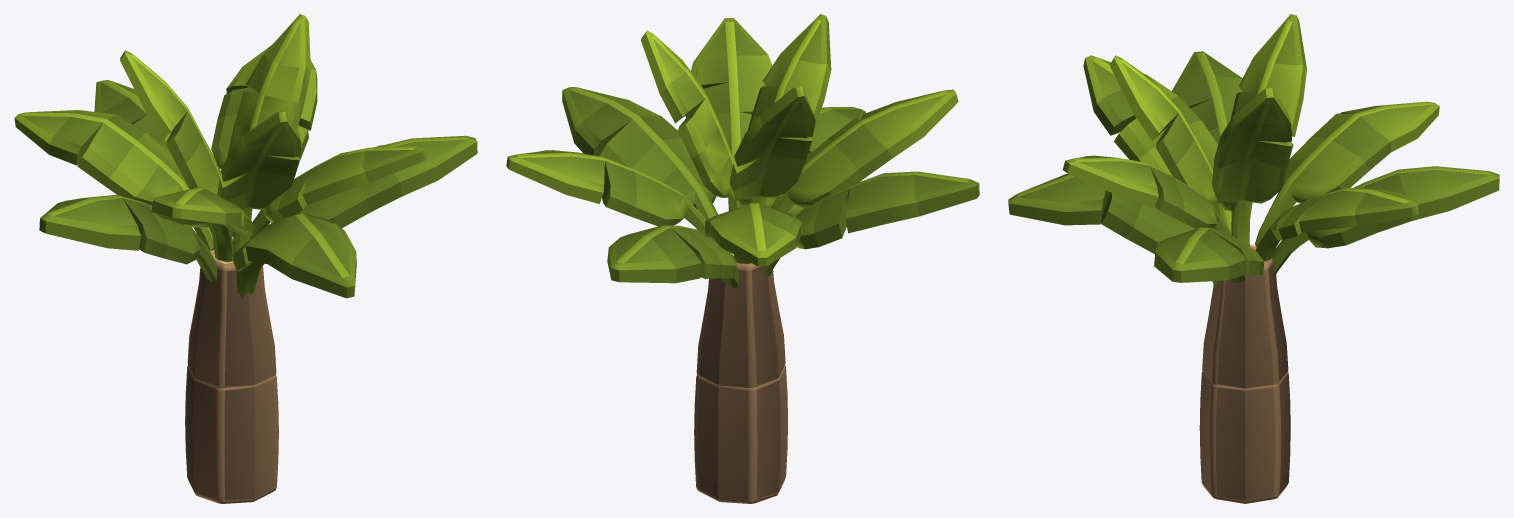
The model's file is banana_tree_small_LOD_group.fbx.
3 views of the same model, side by side, from view 1: azimuth 30°, elevation 25°; view 2: azimuth 150°, elevation 25°; view 3: azimuth 270°, elevation 25° (orthographic).
Parts seen in each view (by area): view 1: banana_tree_small_LOD0; view 2: banana_tree_small_LOD0; view 3: banana_tree_small_LOD0.
Part boxes in pixels (<box>): banana_tree_small_LOD0: <box>14,14,477,503</box>; banana_tree_small_LOD0: <box>506,14,979,503</box>; banana_tree_small_LOD0: <box>1008,14,1499,503</box>.
Size of what is drawn, in the model's own units: 383 by 384 by 388.
1 material, 1 textured.
